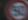Speed Limit -50-: (0, 0, 27, 19)
